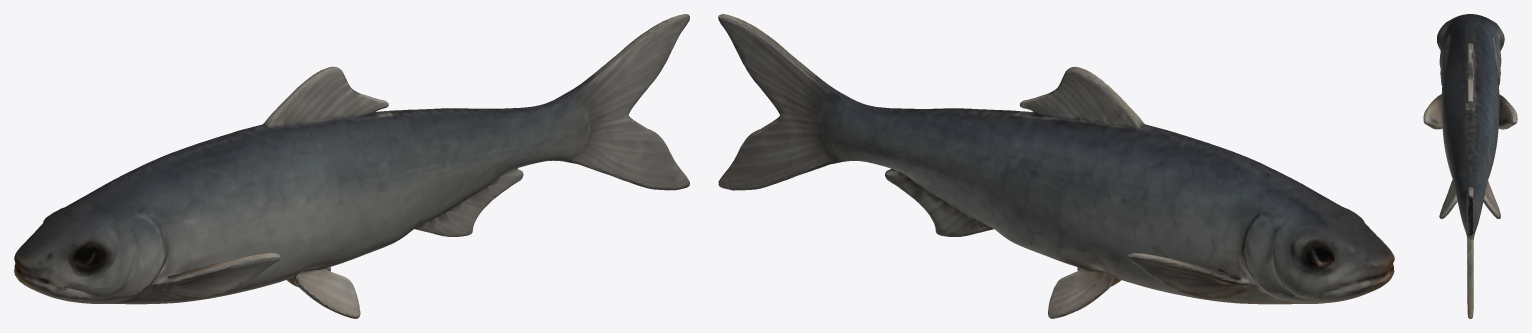
Rendered from fish_sedan_parts.glb.
3 views of the same model, side by side, from view 1: azimuth 30°, elevation 25°; view 2: azimuth 150°, elevation 25°; view 3: azimuth 270°, elevation 25° (orthographic). The views are drawn at different scales.
Visible parts, largest first — view 1: geometry_0; view 2: geometry_0; view 3: geometry_0.
Boxes of the visible parts, x1,y1,x2,y2 form: geometry_0: (14,14,689,318); geometry_0: (718,14,1394,318); geometry_0: (1423,14,1517,318).
Bounding box in the file's own units: 1.6 × 0.5403 × 0.2698.
Materials: 1 (1 with a texture image).
